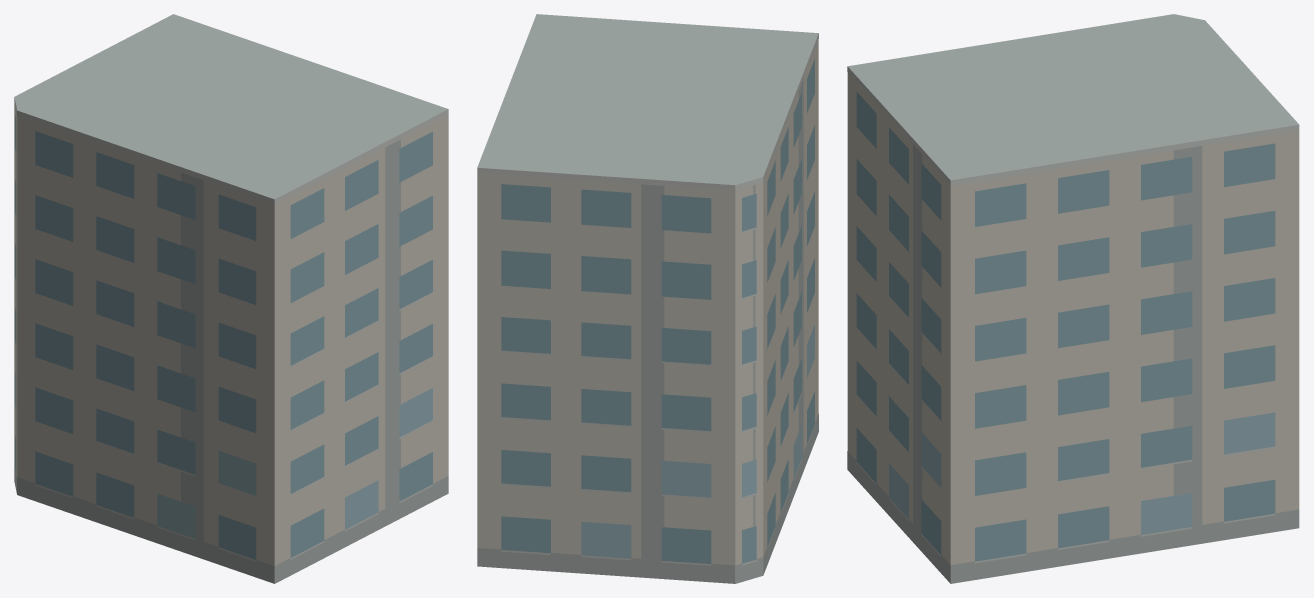
The model's file is survey-upis-32866416.glb.
3 views of the same model, side by side, from view 1: azimuth 30°, elevation 25°; view 2: azimuth 150°, elevation 25°; view 3: azimuth 270°, elevation 25° (orthographic). The views are drawn at different scales.
Parts seen in each view (by area): view 1: survey-upis-32866416.tmp; view 2: survey-upis-32866416.tmp; view 3: survey-upis-32866416.tmp.
Boxes of the visible parts, <box> form: survey-upis-32866416.tmp: <box>14,14,448,583</box>; survey-upis-32866416.tmp: <box>477,14,818,583</box>; survey-upis-32866416.tmp: <box>847,14,1299,583</box>.
Size of the model in its own units: 15.4 by 17.4 by 17.67.
